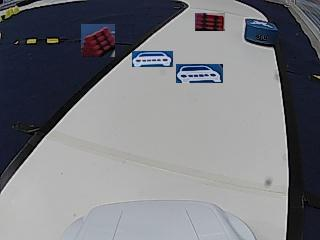prop: (244, 17, 278, 47)
